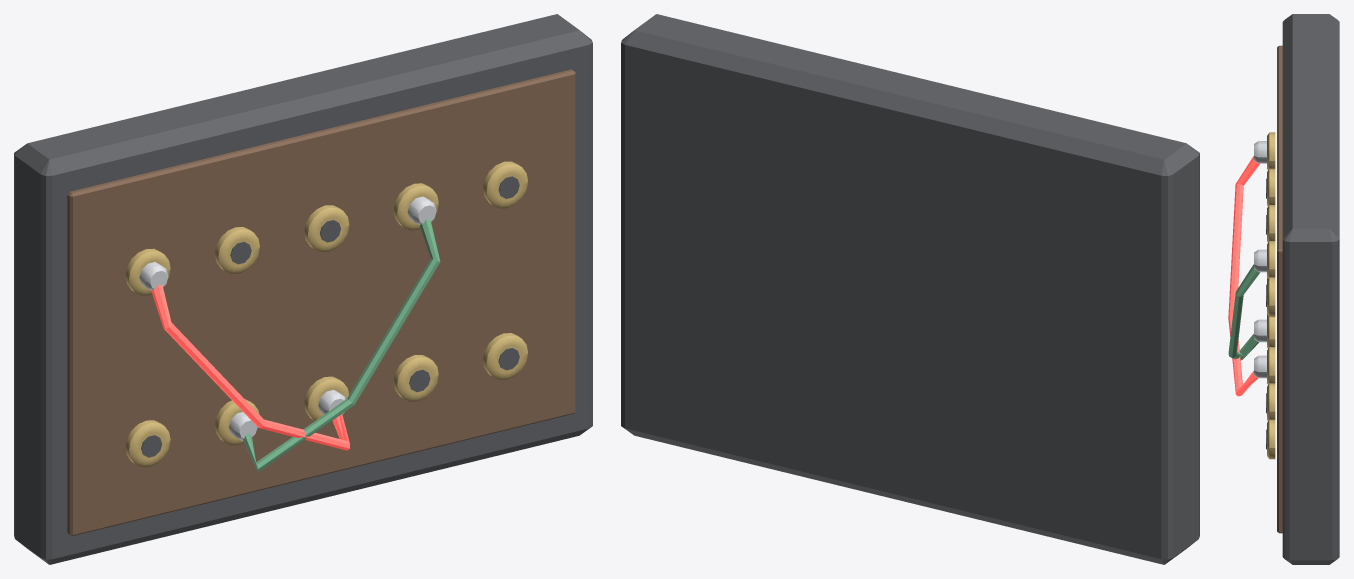
Rendered from escape-room-and-puzzle-venue-wire-patch-panel-dcd7e64a__35789.glb.
3 views of the same model, side by side, from view 1: azimuth 30°, elevation 25°; view 2: azimuth 150°, elevation 25°; view 3: azimuth 270°, elevation 25° (orthographic). The views are drawn at different scales.
Parts seen in each view (by area): view 1: wire-patch-panel; view 2: wire-patch-panel; view 3: wire-patch-panel.
Boxes of the visible parts, bbox=[...] form: wire-patch-panel: bbox=[14, 14, 592, 564]; wire-patch-panel: bbox=[621, 14, 1199, 564]; wire-patch-panel: bbox=[1228, 14, 1339, 564].
Bounding box in the file's own units: 0.74 × 0.52 × 0.1559.
